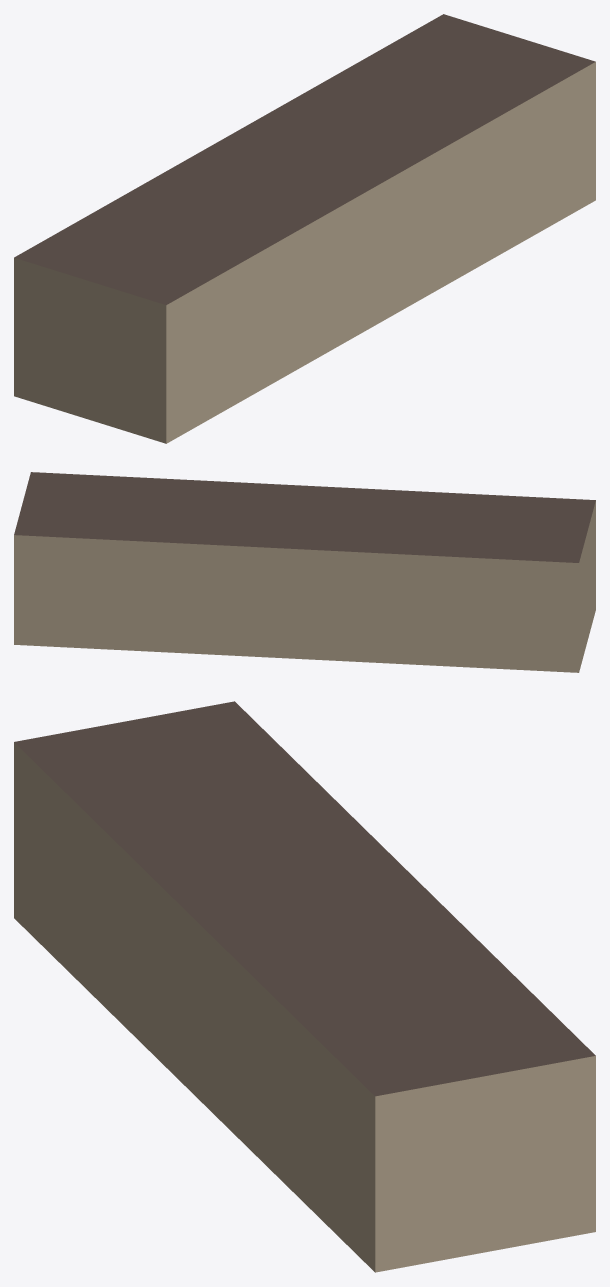
3 renders of one model, top to bottom at view 1: azimuth 30°, elevation 25°; view 2: azimuth 150°, elevation 25°; view 3: azimuth 270°, elevation 25°, orthographic. The views are drawn at different scales.
Visible parts, largest first — view 1: HP-w373833593; view 2: HP-w373833593; view 3: HP-w373833593.
Boxes of the visible parts, box(x1,y1,x2,y2) form: HP-w373833593: box(14, 14, 595, 443); HP-w373833593: box(14, 472, 595, 672); HP-w373833593: box(14, 701, 595, 1272).
Size of the model in its own units: 43.28 by 9 by 26.94.
